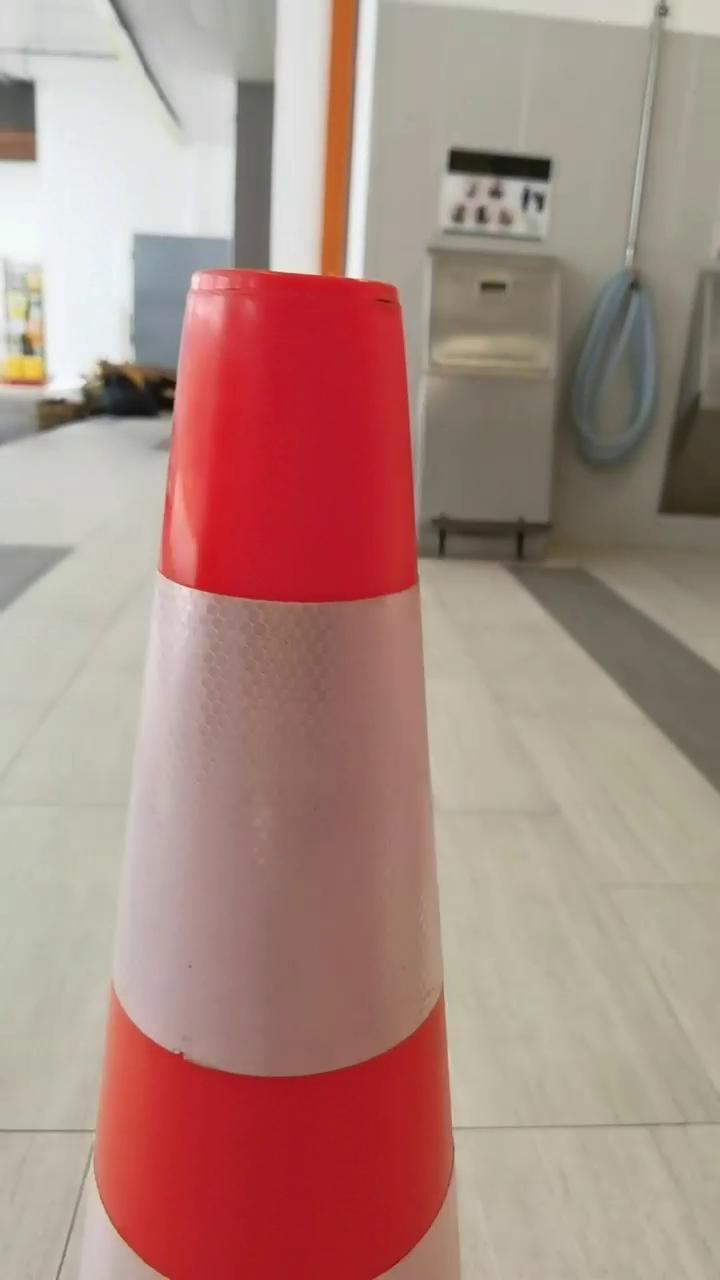traffic cone: (91, 267, 460, 1278)
